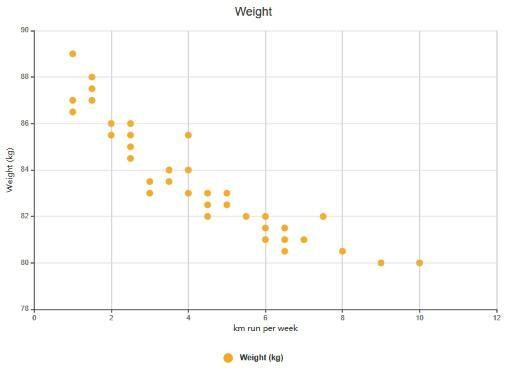axis: (29, 307, 502, 313), (29, 25, 36, 315)
point: (412, 257, 429, 270), (84, 70, 99, 82), (85, 95, 98, 107), (375, 257, 388, 269), (84, 83, 98, 94), (66, 95, 79, 106), (105, 130, 118, 141), (161, 164, 175, 174), (105, 118, 117, 129), (182, 164, 194, 175), (66, 107, 80, 116), (183, 188, 194, 199), (241, 211, 252, 222), (260, 211, 271, 222), (183, 130, 195, 140), (144, 176, 156, 186), (144, 188, 156, 198), (221, 188, 234, 197), (202, 211, 215, 220), (67, 48, 78, 58), (125, 141, 136, 151), (164, 177, 175, 187), (203, 200, 214, 210), (222, 200, 233, 210), (260, 235, 271, 245), (279, 223, 290, 233), (298, 234, 309, 244), (317, 211, 328, 221), (125, 130, 137, 139), (201, 189, 214, 197), (126, 153, 136, 163), (338, 245, 348, 255), (125, 119, 136, 128), (260, 223, 271, 232), (279, 235, 290, 244), (280, 246, 289, 255)
